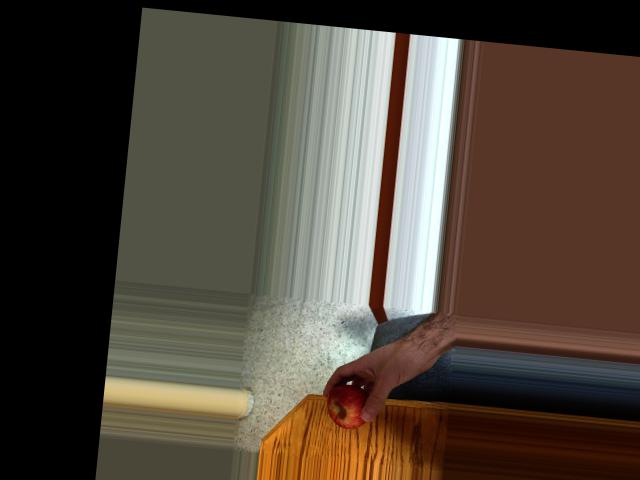apple: (323, 381, 374, 429)
